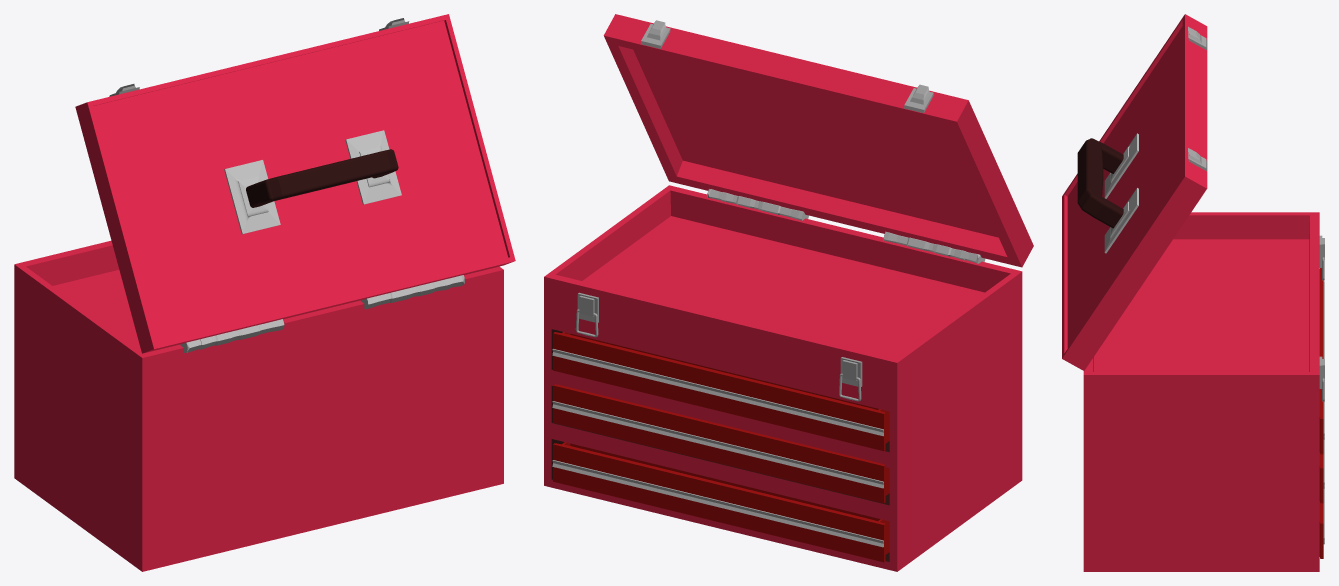
File: tooolo.fbx
The picture shows the model from 3 angles, left to right: view 1: azimuth 30°, elevation 25°; view 2: azimuth 150°, elevation 25°; view 3: azimuth 270°, elevation 25°; orthographic projection. The views are drawn at different scales.
Visible parts, largest first — view 1: Cube, Cube.004, Cube.001, NurbsPath; view 2: Cube, Cube.004, Cube.005, Cube.002, Cube.003, NurbsPath, Cylinder, Cylinder.001; view 3: Cube, Cube.004, Cube.001, Cube.002, Cylinder.001, Cylinder, Cube.005.
Part boxes in pixels (x1=…): Cube: x1=14, y1=240, x2=503, y2=571; Cube.004: x1=75, y1=14, x2=515, y2=353; Cube.001: x1=224, y1=130, x2=401, y2=234; NurbsPath: x1=180, y1=275, x2=464, y2=353; Cube: x1=544, y1=185, x2=1022, y2=571; Cube.004: x1=603, y1=14, x2=1033, y2=267; Cube.005: x1=552, y1=442, x2=889, y2=562; Cube.002: x1=552, y1=332, x2=889, y2=451; Cube.003: x1=552, y1=384, x2=889, y2=503; NurbsPath: x1=707, y1=189, x2=985, y2=263; Cylinder: x1=575, y1=292, x2=862, y2=401; Cylinder.001: x1=641, y1=20, x2=933, y2=113; Cube: x1=1083, y1=212, x2=1319, y2=571; Cube.004: x1=1062, y1=14, x2=1207, y2=370; Cube.001: x1=1077, y1=133, x2=1138, y2=253; Cube.002: x1=1319, y1=268, x2=1324, y2=454; Cylinder.001: x1=1188, y1=26, x2=1206, y2=171; Cylinder: x1=1319, y1=235, x2=1324, y2=401; Cube.005: x1=1319, y1=488, x2=1324, y2=558.
Size of the model in its own units: 14.07 by 16.17 by 9.62.
